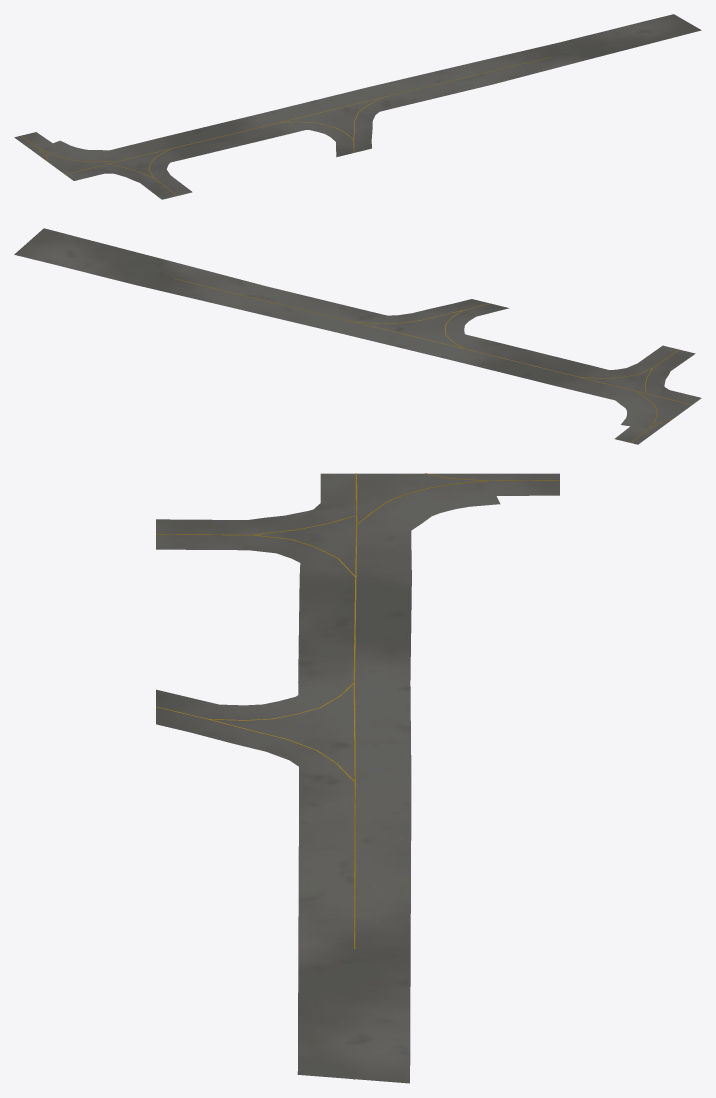
Rendered from sbgr_taxi_secao.glb.
3 views of the same model, one above another, from view 1: azimuth 30°, elevation 25°; view 2: azimuth 150°, elevation 25°; view 3: azimuth 270°, elevation 25° (orthographic). The views are drawn at different scales.
Visible parts, largest first — view 1: sbgr_taxi_secao; view 2: sbgr_taxi_secao; view 3: sbgr_taxi_secao.
Boxes of the visible parts, x1,y1,x2,y2 form: sbgr_taxi_secao: (14, 14, 701, 199); sbgr_taxi_secao: (14, 228, 701, 444); sbgr_taxi_secao: (156, 473, 559, 1083).
Bounding box in the file's own units: 320 × 2.38 × 90.01.
2 materials, 2 textured.
